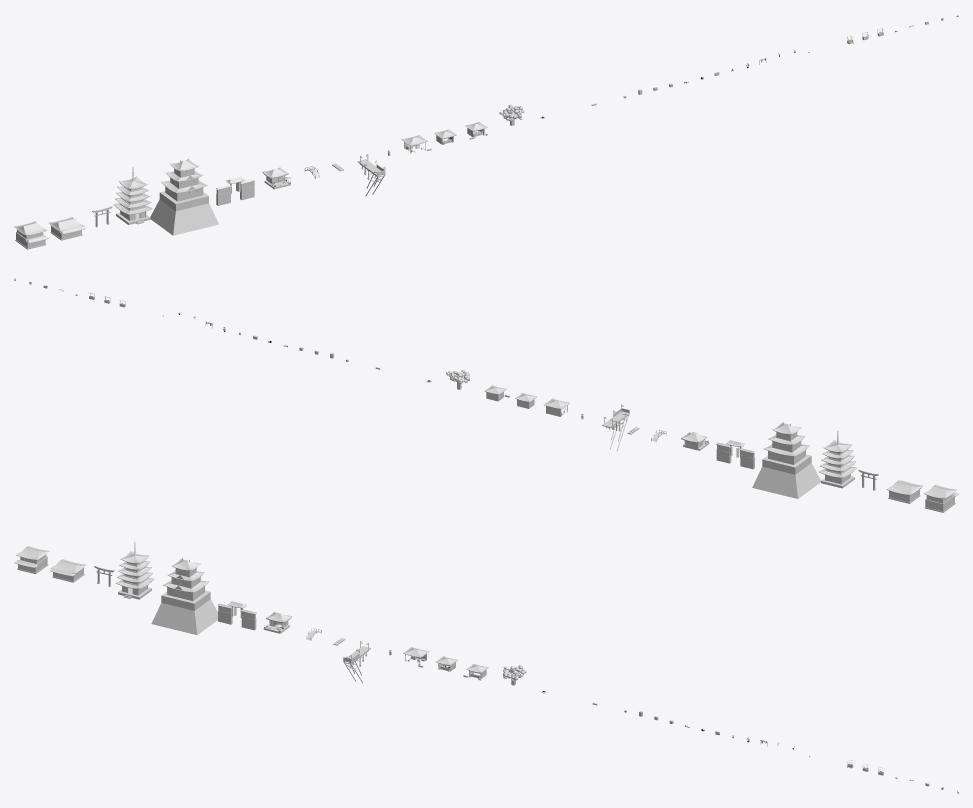
File: village.glb
3 views of the same model, one above another, from view 1: azimuth 30°, elevation 25°; view 2: azimuth 150°, elevation 25°; view 3: azimuth 330°, elevation 25° (orthographic).
Parts seen in each view (by area): view 1: castle_base, pagoda_roof0, castle_roof0; view 2: castle_base, pagoda_roof0, castle_roof0; view 3: castle_base, pagoda_roof0, castle_roof0.
Boxes of the visible parts, x1,y1,x2,y2 form: castle_base: (150,192,218,235); pagoda_roof0: (114,176,152,214); castle_roof0: (161,159,207,193); castle_base: (752,455,820,498); pagoda_roof0: (819,440,857,477); castle_roof0: (764,422,809,456); castle_base: (151,592,217,634); pagoda_roof0: (116,551,154,589); castle_roof0: (163,558,209,592).
Size of the model in its own units: 367 by 30.19 by 20.04.
16 materials, 1 textured.
